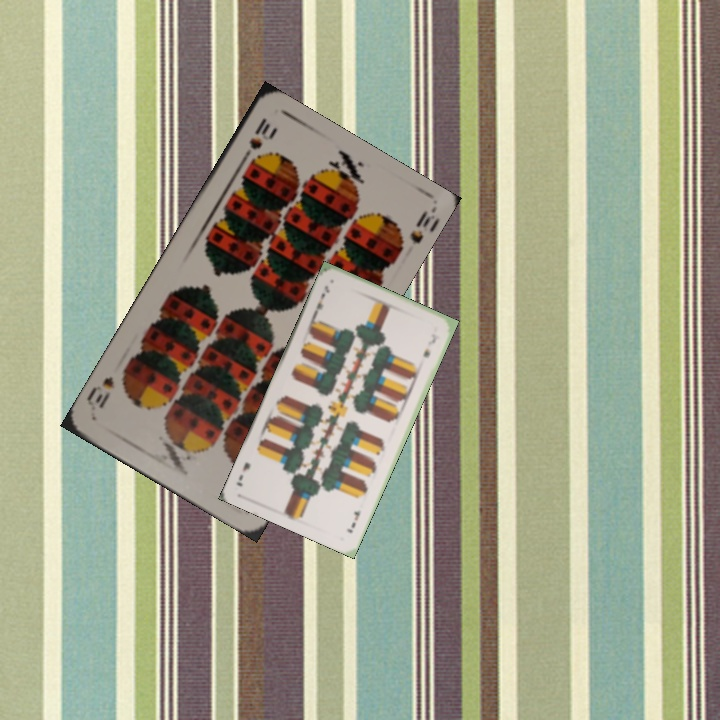E7: (310, 281, 332, 318), (342, 507, 363, 536)
S10: (236, 113, 278, 166)
